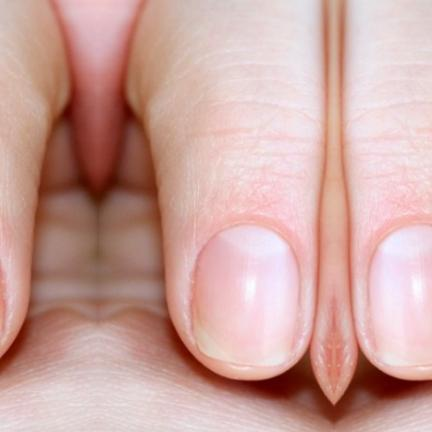Nail: (191, 224, 299, 366), (367, 224, 432, 366), (0, 272, 3, 338)
